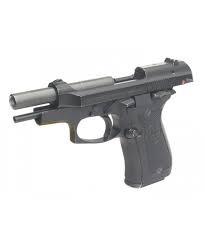gun: (9, 57, 194, 188)
